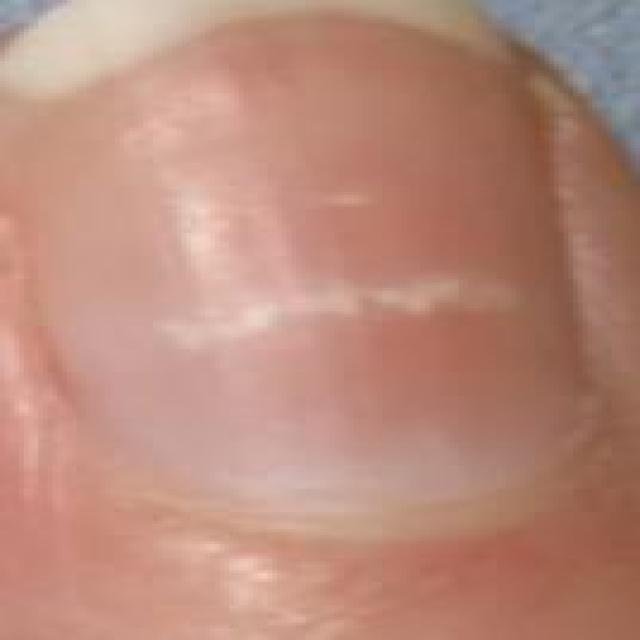Nail: (0, 0, 594, 507)
